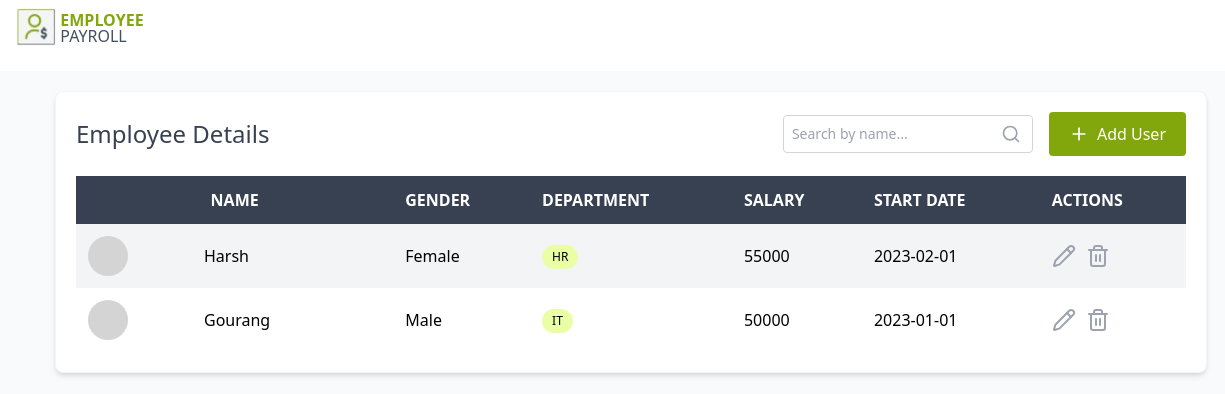
it: Dashboard Component › filters employees based on search term
This screenshot has width=1225, height=394.
expect the text "Gourang" is shown: met, box [204,308,270,332]
expect the text "Harsh" is shown: met, box [204,244,249,268]
Type "Gourang" into the field with placeholder "Search by name..." at x=908, y=134, box [783,115,1033,153]
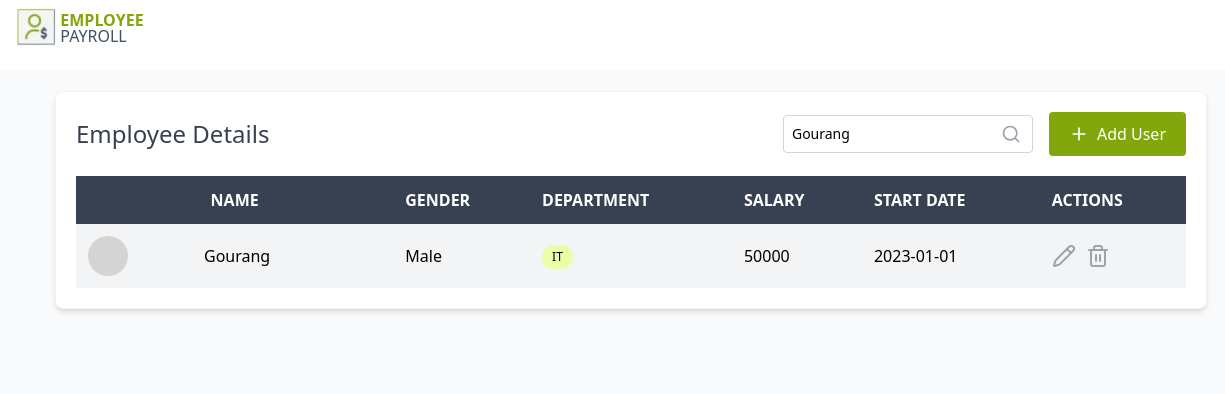
expect the text "Gourang" is shown: met, box [204,244,270,268]
expect the text "Harsh" is gone: met
